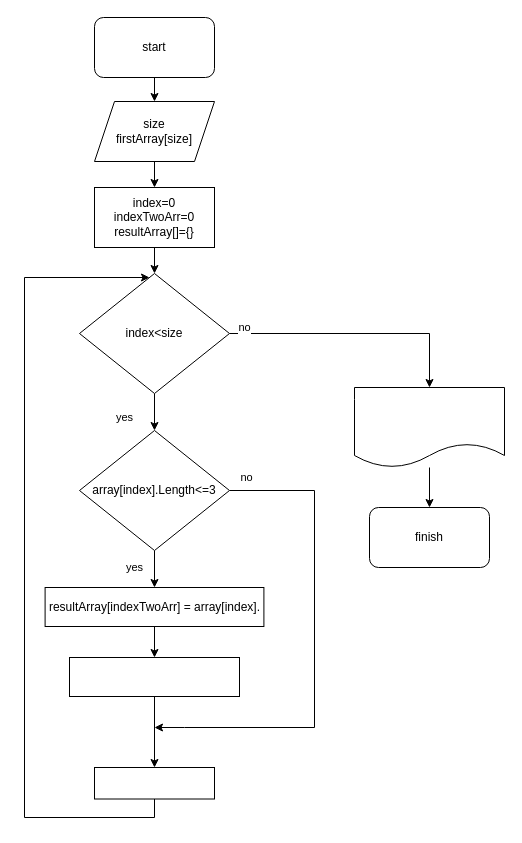
Some shapes in this 522 by 843 pixel diagram are drawn without their labels. The shapes that lost their labels are listed below. From the top down, each one's box as (x1, y1, x2, y2) in pixels, then its label:
(354, 386, 504, 468): resultArray[indexTwoArr]
(68, 656, 240, 696): indexTwoArr=indexTwoArr+1
(94, 766, 214, 799): index=index+1
